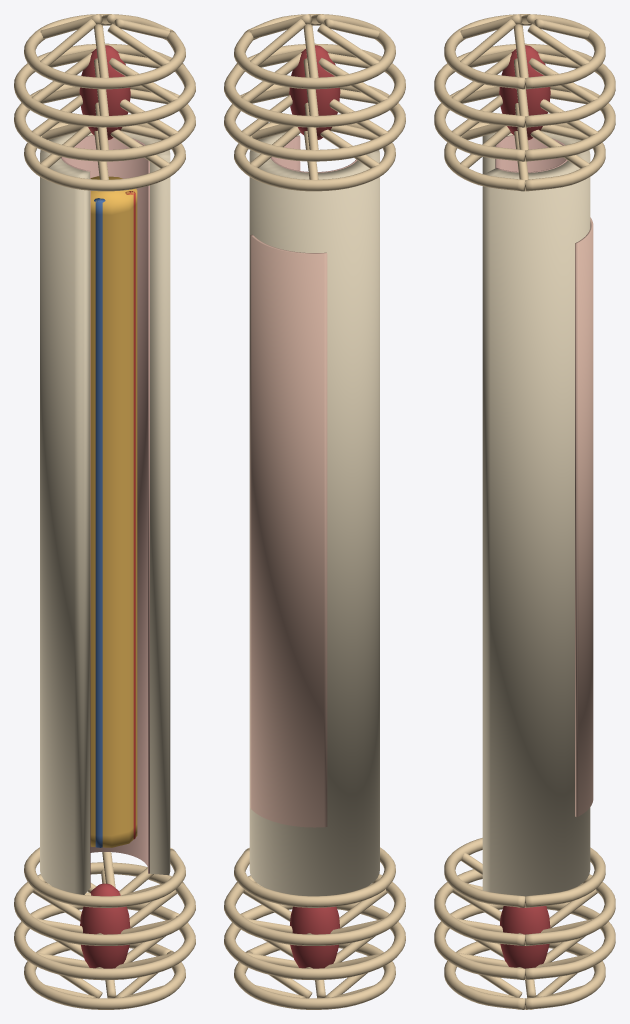
The model's file is humerus-study-v1-cutaway-normal.glb.
The picture shows the model from 3 angles, left to right: view 1: azimuth 30°, elevation 25°; view 2: azimuth 150°, elevation 25°; view 3: azimuth 270°, elevation 25°; orthographic projection.
Visible parts, largest first — view 1: study-compact-bone, study-spongy-bone, study-yellow-marrow, study-endosteum, study-vein, study-red-marrow, study-artery; view 2: study-compact-bone, study-periosteum, study-spongy-bone, study-red-marrow, study-endosteum; view 3: study-compact-bone, study-spongy-bone, study-periosteum, study-red-marrow, study-endosteum.
Boxes of the visible parts, box(x1,y1,x2,y2) form: study-compact-bone: box(40, 131, 170, 894); study-spongy-bone: box(14, 14, 195, 1009); study-yellow-marrow: box(90, 176, 137, 847); study-endosteum: box(61, 135, 149, 887); study-vein: box(94, 198, 105, 847); study-red-marrow: box(79, 45, 130, 968); study-artery: box(125, 191, 135, 839); study-compact-bone: box(249, 132, 379, 896); study-periosteum: box(250, 234, 327, 827); study-spongy-bone: box(224, 14, 405, 1009); study-red-marrow: box(289, 45, 340, 968); study-endosteum: box(271, 135, 357, 172); study-compact-bone: box(482, 131, 590, 896); study-spongy-bone: box(434, 14, 615, 1009); study-periosteum: box(575, 217, 593, 817); study-red-marrow: box(499, 45, 550, 968); study-endosteum: box(495, 135, 567, 172).
Bounding box in the file's own units: 4.61 × 27.52 × 4.59.
